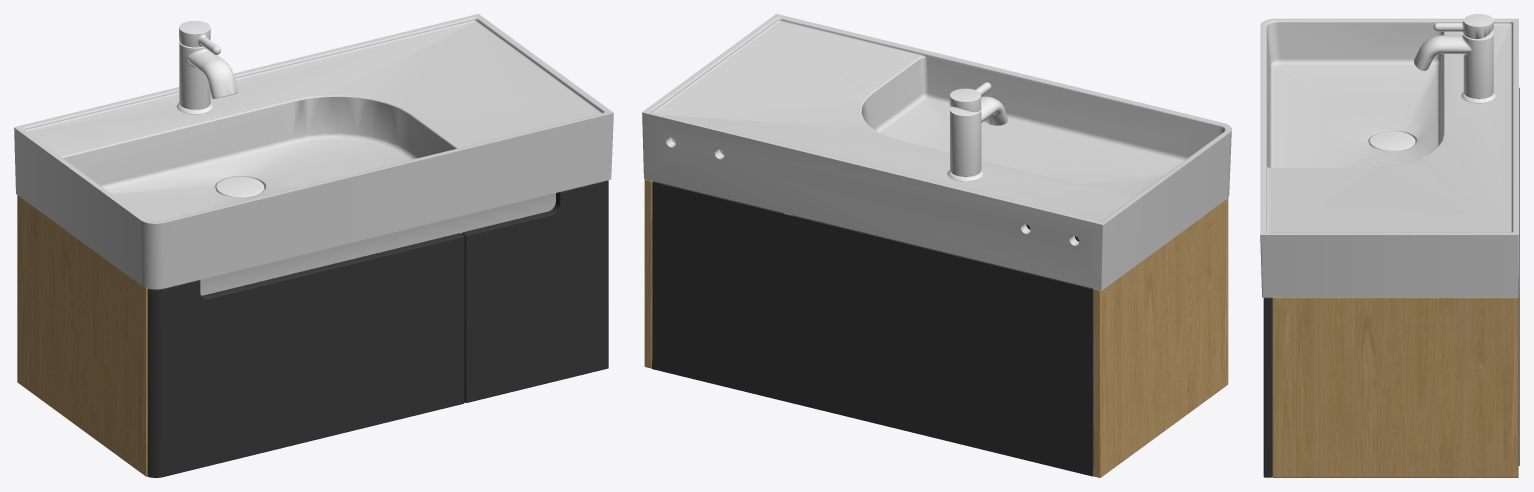
The model's file is Edgem1.glb.
3 views of the same model, side by side, from view 1: azimuth 30°, elevation 25°; view 2: azimuth 150°, elevation 25°; view 3: azimuth 270°, elevation 25° (orthographic). The views are drawn at different scales.
Visible parts, largest first — view 1: Solid2; view 2: Solid2; view 3: Solid2.
Part boxes in pixels (box(x1,y1,x2,y2)): Solid2: box(14, 14, 613, 477); Solid2: box(642, 14, 1231, 477); Solid2: box(1260, 14, 1519, 477).
Bounding box in the file's own units: 0.95 × 0.649 × 0.4813.
Materials: 6 (1 with a texture image).
